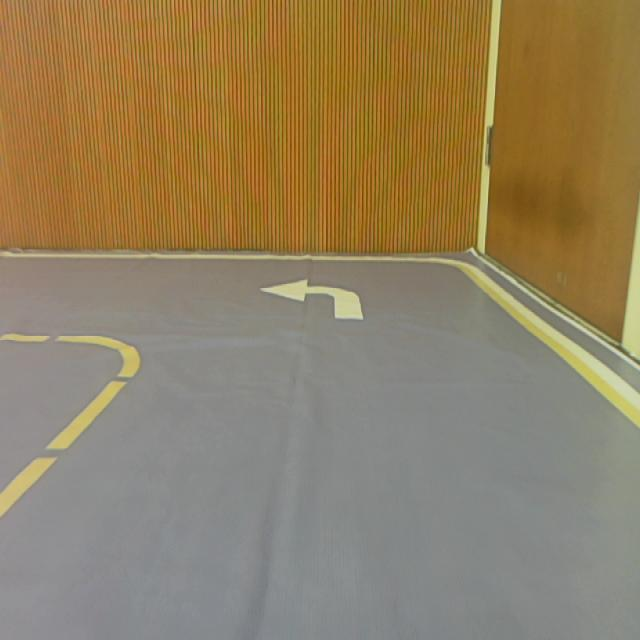left_lane: (0, 366, 136, 515)
right_lane: (458, 266, 640, 426)
